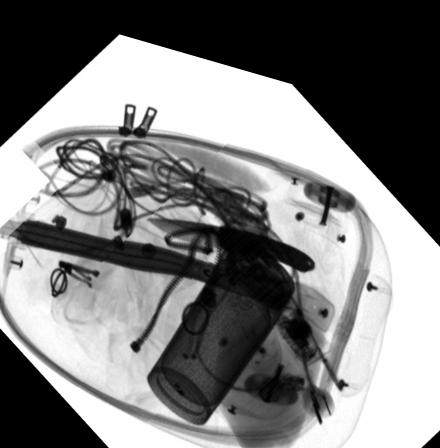Knife: (146, 208, 316, 255)
